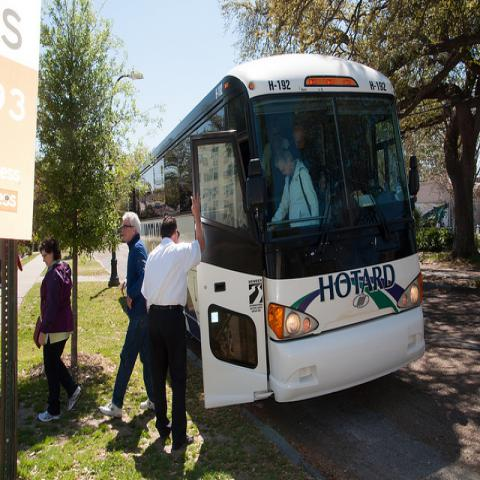bus: (126, 54, 428, 411)
